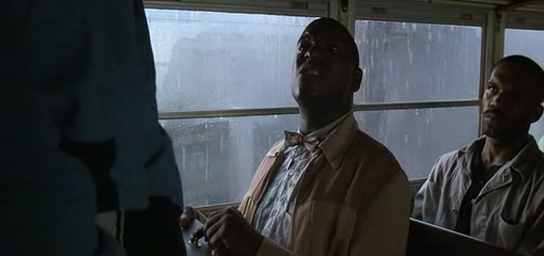face: (292, 24, 349, 102), (481, 77, 526, 139)
mcu: (1, 1, 544, 256)
person: (179, 16, 414, 256), (413, 55, 544, 256)
